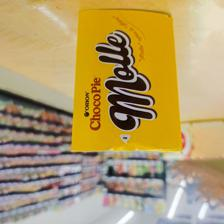Molle: (68, 10, 184, 157)
